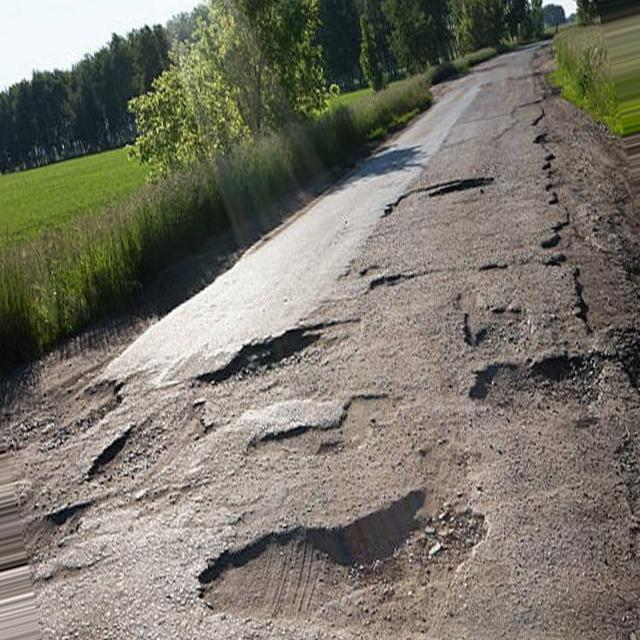Lubang: (192, 498, 486, 627), (180, 320, 360, 398), (466, 356, 606, 418)
Pinggir: (519, 75, 640, 422)
